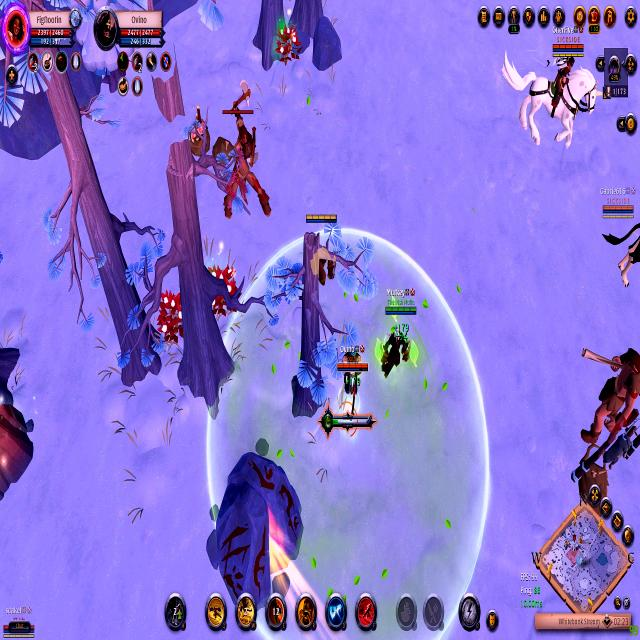hide: (197, 262, 243, 324), (152, 290, 190, 350), (266, 20, 307, 68)
ore: (210, 82, 280, 220), (566, 346, 640, 453)
red: (501, 24, 603, 155), (326, 335, 376, 445), (381, 283, 419, 391), (304, 204, 338, 290), (599, 176, 639, 226)
tree: (0, 385, 36, 514)
